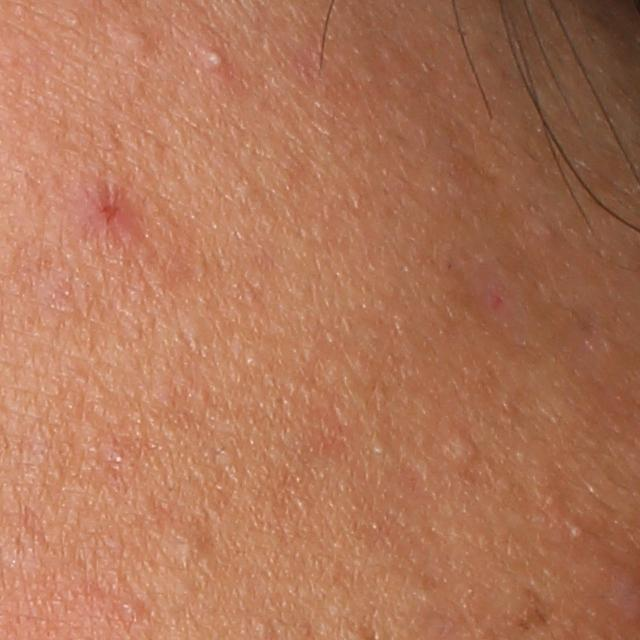comedo: (166, 518, 218, 575), (443, 426, 486, 467), (113, 27, 157, 63), (530, 218, 561, 247), (120, 600, 144, 623), (569, 520, 586, 542), (370, 436, 386, 455)
pustule: (199, 45, 234, 77)
